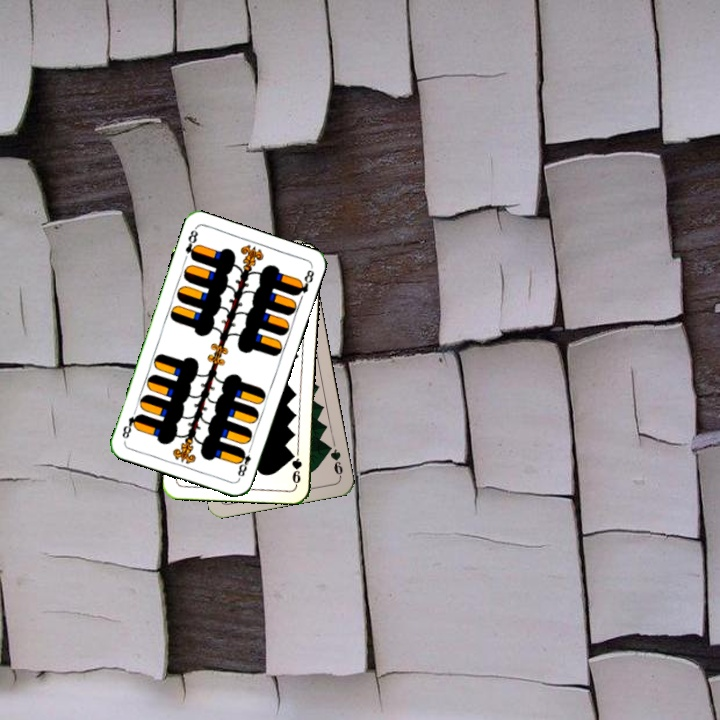E8: (234, 442, 254, 482), (181, 225, 201, 263)
G9: (323, 441, 345, 480), (288, 449, 304, 487)
